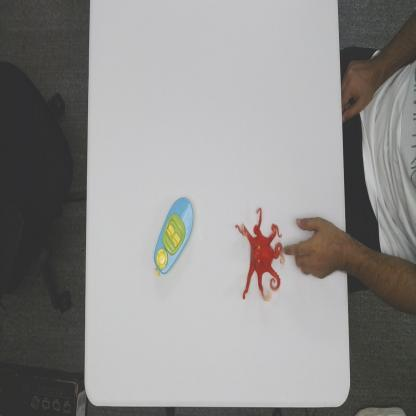Boat: (152, 195, 195, 275)
Hand: (284, 215, 346, 283)
Octopus: (236, 205, 284, 304)
